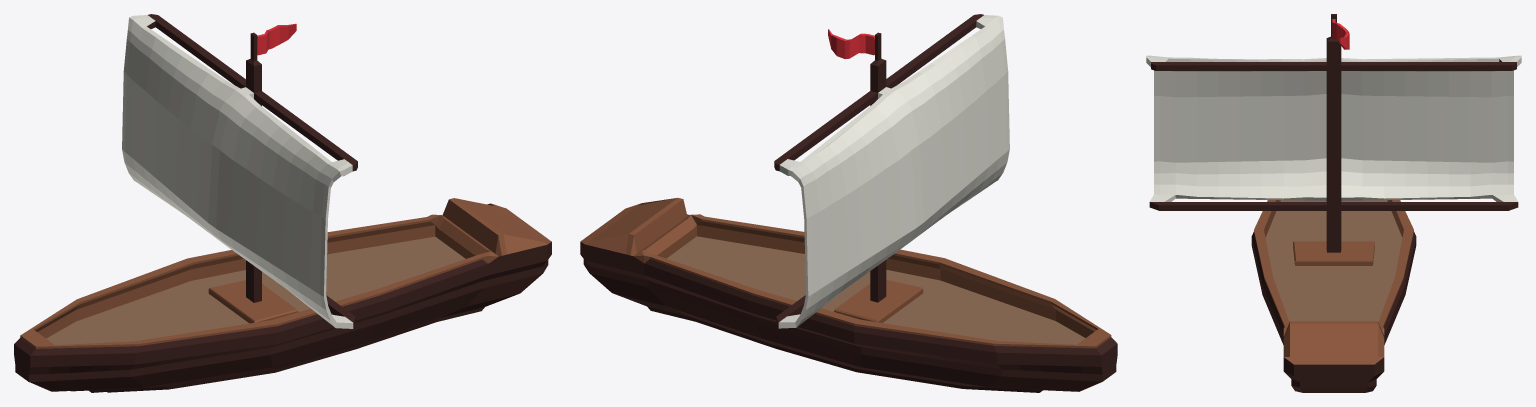
File: boat.glb
3 renders of one model, left to right at view 1: azimuth 30°, elevation 25°; view 2: azimuth 150°, elevation 25°; view 3: azimuth 270°, elevation 25°, orthographic. The views are drawn at different scales.
Parts seen in each view (by area): view 1: Boat; view 2: Boat; view 3: Boat.
Part boxes in pixels (x1=…): Boat: x1=14, y1=14, x2=551, y2=392; Boat: x1=580, y1=14, x2=1117, y2=392; Boat: x1=1146, y1=14, x2=1521, y2=392.
Bounding box in the file's own units: 17.18 × 10.19 × 12.36.
